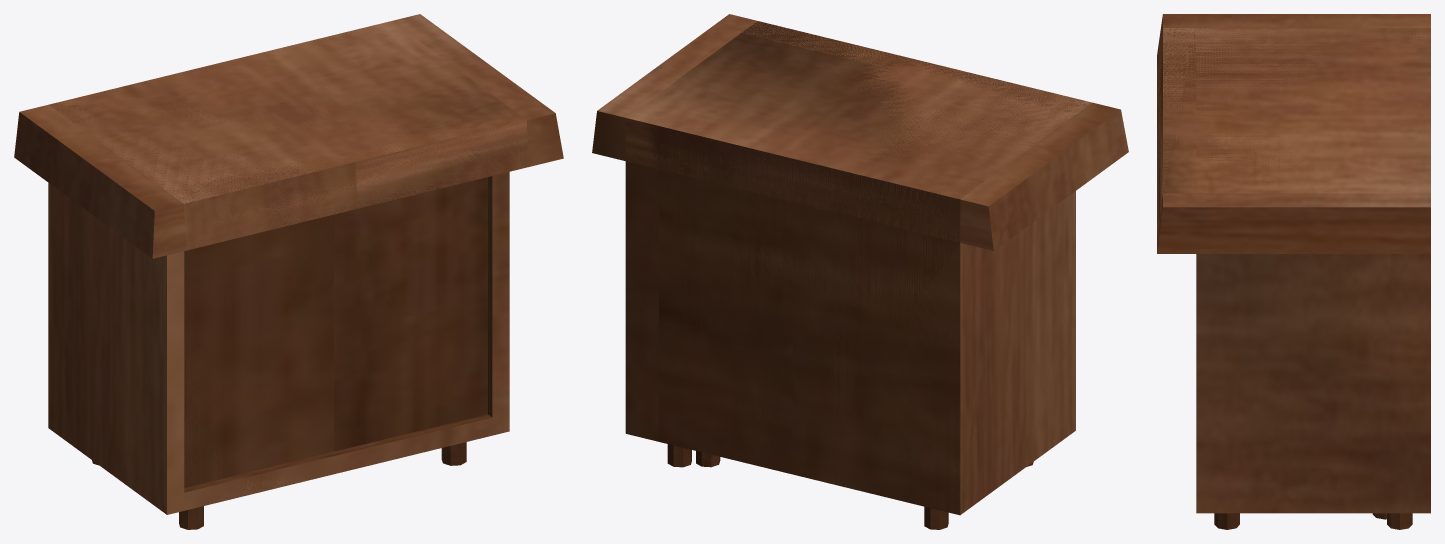
The model's file is PROP_balcao-modular.glb.
3 views of the same model, side by side, from view 1: azimuth 30°, elevation 25°; view 2: azimuth 150°, elevation 25°; view 3: azimuth 270°, elevation 25° (orthographic). The views are drawn at different scales.
Visible parts, largest first — view 1: ponta-esquerda-balcao, canto-balcao, ponta-direita-balcao, meio-balcao; view 2: canto-balcao, ponta-esquerda-balcao, ponta-direita-balcao, meio-balcao; view 3: ponta-esquerda-balcao, ponta-direita-balcao, canto-balcao, meio-balcao.
Boxes of the visible parts, box(x1,y1,x2,y2) form: ponta-esquerda-balcao: box(14, 21, 528, 513); canto-balcao: box(48, 92, 447, 529); ponta-direita-balcao: box(168, 14, 563, 247); meio-balcao: box(175, 122, 526, 248); canto-balcao: box(642, 50, 1091, 529); ponta-esquerda-balcao: box(625, 21, 1128, 514); ponta-direita-balcao: box(592, 14, 1090, 160); meio-balcao: box(783, 28, 1086, 111); ponta-esquerda-balcao: box(1157, 14, 1430, 529); ponta-direita-balcao: box(1157, 29, 1430, 253); canto-balcao: box(1157, 28, 1430, 519); meio-balcao: box(1157, 28, 1194, 233).
Bounding box in the file's own units: 1.33 × 1.1 × 0.7782.
1 material, 1 textured.
